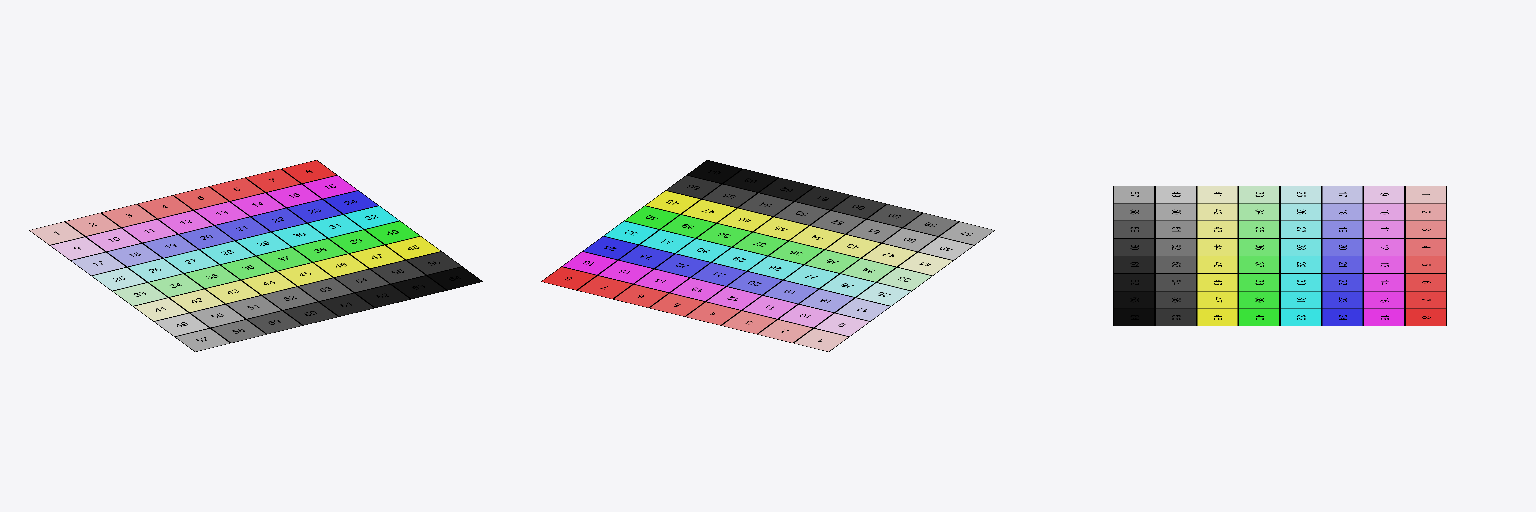
The picture shows the model from 3 angles: view 1: azimuth 30°, elevation 25°; view 2: azimuth 150°, elevation 25°; view 3: azimuth 270°, elevation 25°; orthographic projection.
Visible parts, largest first — view 1: Plane; view 2: Plane; view 3: Plane.
Part boxes in pixels (x1,y1,x2,y2): Plane: (29, 160, 482, 351); Plane: (541, 160, 994, 351); Plane: (1113, 186, 1446, 325).
Size of the model in its own units: 2 by 0 by 2.
Materials: 1 (1 with a texture image).